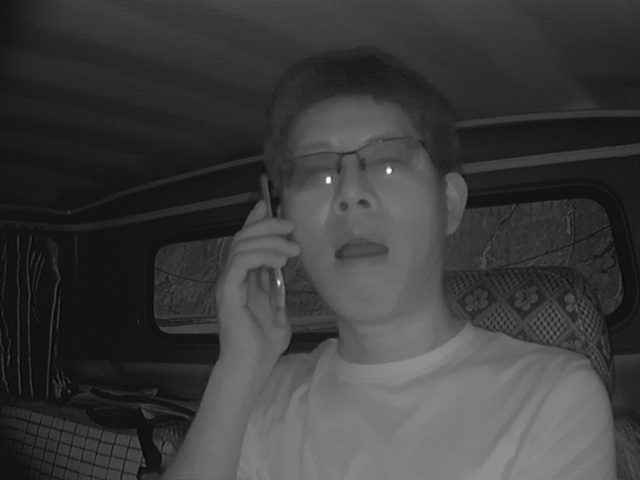hand: (203, 203, 304, 348)
